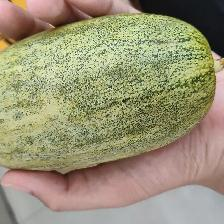gua: (12, 21, 204, 167)
